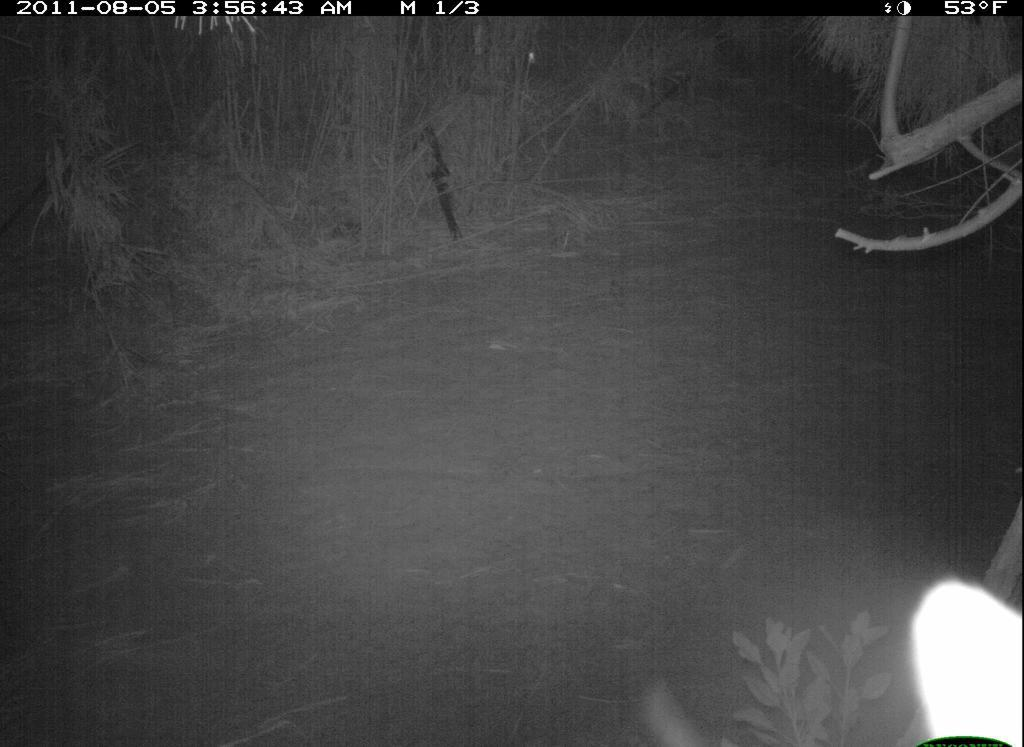raccoon: (895, 565, 1023, 747)
